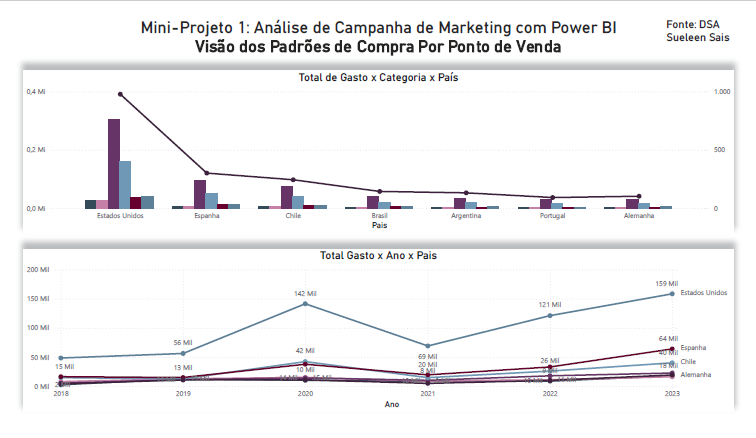

Layout of this report page (visuals, bound fields, positions):
{"tool":"powerbi","page":{"name":"Visão Pontos de Venda","canvas":[1280,720],"ordinal":3},"visuals":[{"type":"textbox","box":[188.2,0,901.3,97.4],"z":0},{"type":"lineClusteredColumnComboChart","title":"Total de Gasto x Categoria x País","fields":{"Category":["DadosMarketing.Pais"],"Y":["Sum(DadosMarketing.Gasto com Alimentos)","Sum(DadosMarketing.Gasto com Brinquedos)","Sum(DadosMarketing.Gasto com Eletronicos)","Sum(DadosMarketing.Gasto com Moveis)","Sum(DadosMarketing.Gasto com Utilidades)","Sum(DadosMarketing.Gasto com Vestuario)"],"Y2":["CountNonNull(DadosMarketing.ID)"]},"box":[18.8,97.5,1238.8,283.8],"z":1000},{"type":"lineChart","title":"Total Gasto x Ano x Pais","fields":{"Series":["DadosMarketing.Pais"],"Y":["DadosMarketing.Total Gasto"],"Category":["DadosMarketing.Data Cadastro.Variation.Hierarquia de datas.Ano"]},"box":[18.8,408.8,1238.8,283.8],"z":2000},{"type":"textbox","box":[1136.2,0,121.2,57.5],"z":3000}]}

Visuals, with their boxes in screenshot pixels (x1, y1, x2, y2), scaled from the page's 1280x720 canvas onto the 756x438 screenshot:
textbox: <box>111,0,643,59</box>
"Total de Gasto x Categoria x País" lineClusteredColumnComboChart: <box>11,59,743,232</box>
"Total Gasto x Ano x Pais" lineChart: <box>11,249,743,421</box>
textbox: <box>671,0,743,35</box>
